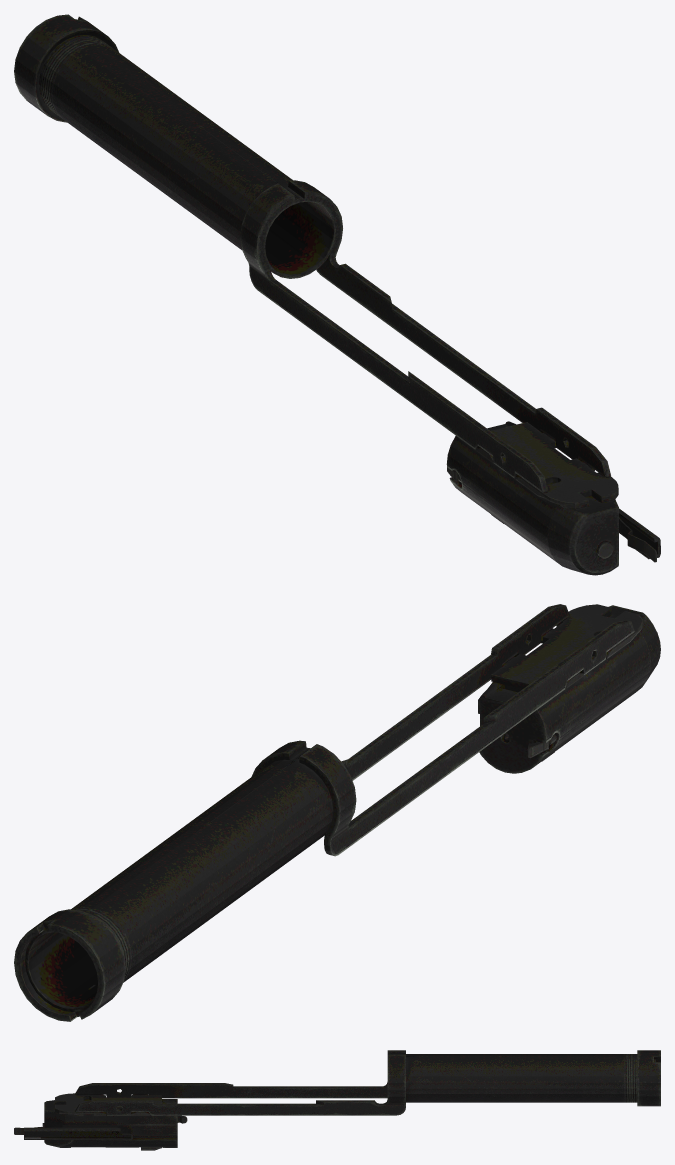
3 views of the same model, one above another, from view 1: azimuth 30°, elevation 25°; view 2: azimuth 150°, elevation 25°; view 3: azimuth 270°, elevation 25° (orthographic). The views are drawn at different scales.
Visible parts, largest first — view 1: TW_5a7828548dc32e5a9c28b516_PZ_Import; view 2: TW_5a7828548dc32e5a9c28b516_PZ_Import; view 3: TW_5a7828548dc32e5a9c28b516_PZ_Import.
Boxes of the visible parts, left/top/right/bottom form: TW_5a7828548dc32e5a9c28b516_PZ_Import: left=14, top=14, right=660, bottom=575; TW_5a7828548dc32e5a9c28b516_PZ_Import: left=14, top=604, right=660, bottom=1021; TW_5a7828548dc32e5a9c28b516_PZ_Import: left=14, top=1050, right=660, bottom=1150.
Size of the model in its own units: 0.0198 by 0.2273 by 0.0376.
Materials: 1 (1 with a texture image).
